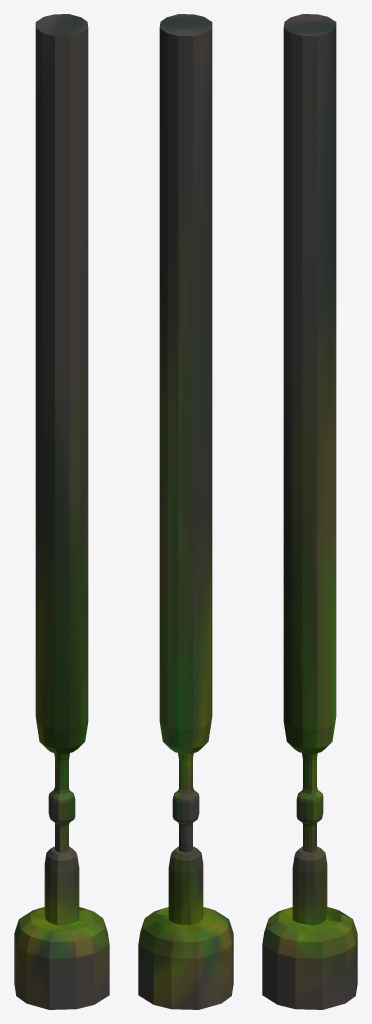
3 views of the same model, side by side, from view 1: azimuth 30°, elevation 25°; view 2: azimuth 150°, elevation 25°; view 3: azimuth 330°, elevation 25° (orthographic).
Visible parts, largest first — view 1: Cube.040; view 2: Cube.040; view 3: Cube.040.
Boxes of the visible parts, x1,y1,x2,y2 form: Cube.040: (14,14,109,1009); Cube.040: (138,14,233,1009); Cube.040: (262,14,357,1009).
Size of the model in its own units: 580 by 6573 by 580.
Materials: 1 (1 with a texture image).
